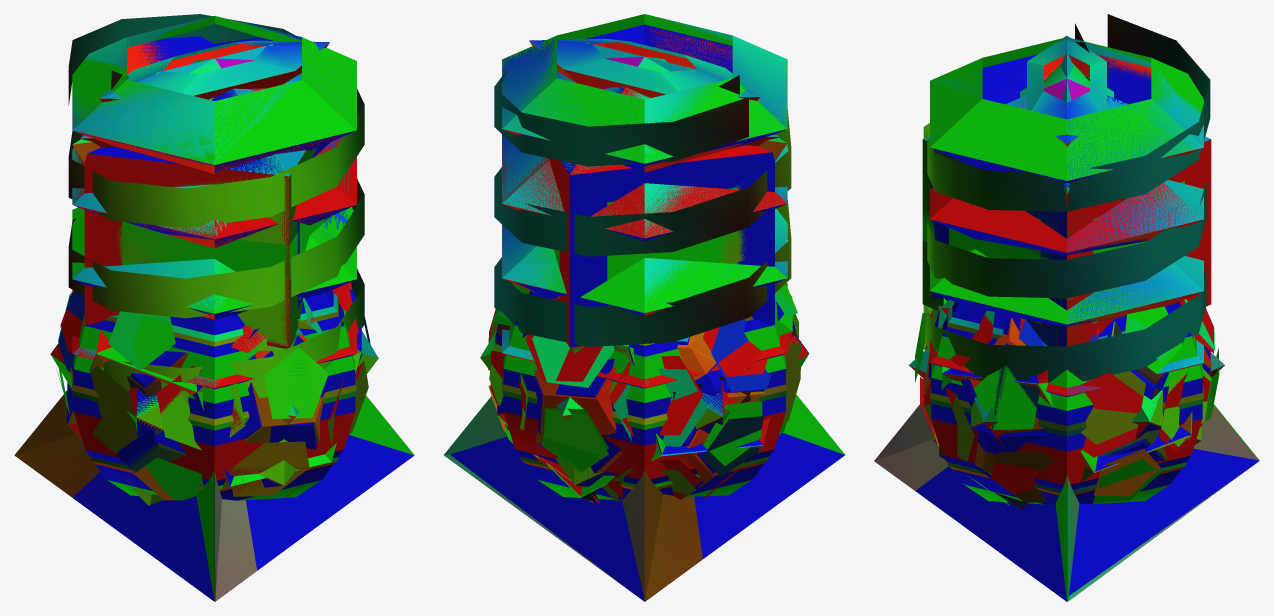
Rendered from insectAbstract_export.fbx.
3 renders of one model, left to right at view 1: azimuth 30°, elevation 25°; view 2: azimuth 150°, elevation 25°; view 3: azimuth 270°, elevation 25°, orthographic. The views are drawn at different scales.
Parts seen in each view (by area): view 1: a_jointD_alt, a_jointC, a_jointCalt, a_ballE, a_ballA_alt, a_ballF, a_ballA, a_jointA, a_ballE_alt, a_wingD, a_jointA_alt, a_jointB (+8 smaller); view 2: a_jointD_alt, a_jointC, a_jointCalt, a_ballE, a_ballA_alt, a_jointA, a_ballF, a_ballA, a_ballE_alt, a_wingD, a_ballF_alt, a_ballC (+6 smaller); view 3: a_jointC, a_jointD_alt, a_ballE, a_jointCalt, a_ballA, a_ballF, a_ballA_alt, a_jointA, a_ballE_alt, a_wingD, a_jointA_alt, a_ballF_alt (+6 smaller).
Boxes of the visible parts, x1,y1,x2,y2 form: a_jointD_alt: (68,14,364,404); a_jointC: (72,16,356,389); a_jointCalt: (72,16,355,389); a_ballE: (73,395,414,601); a_ballA_alt: (57,291,371,500); a_ballF: (73,284,355,500); a_ballA: (56,284,364,500); a_jointA: (84,60,330,348); a_ballE_alt: (14,390,413,601); a_wingD: (80,40,329,147); a_jointA_alt: (130,60,330,347); a_jointB: (121,221,324,281); a_jointD_alt: (494,69,791,403); a_jointC: (502,14,787,388); a_jointCalt: (502,16,787,388); a_ballE: (450,394,844,601); a_ballA_alt: (488,282,801,502); a_jointA: (548,87,774,347); a_ballF: (503,291,785,500); a_ballA: (488,283,797,502); a_ballE_alt: (444,396,702,601); a_wingD: (529,38,779,145); a_ballF_alt: (502,316,787,489); a_ballC: (497,296,792,496); a_jointC: (930,37,1203,396); a_jointD_alt: (923,14,1210,383); a_ballE: (874,404,1259,601); a_jointCalt: (933,37,1203,396); a_ballA: (915,300,1218,505); a_ballF: (931,302,1202,504); a_ballA_alt: (919,299,1219,506); a_jointA: (928,95,1211,346); a_ballE_alt: (874,400,1258,601); a_wingD: (1020,35,1113,186); a_jointA_alt: (922,95,1210,346); a_ballF_alt: (930,307,1203,494).
Bounding box in the file's own units: 1.2 × 1.53 × 1.22.
